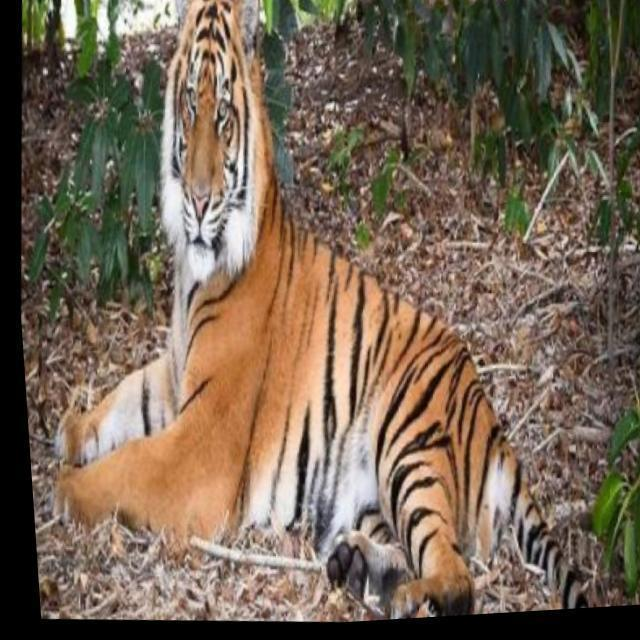tiger: (52, 0, 589, 619)
